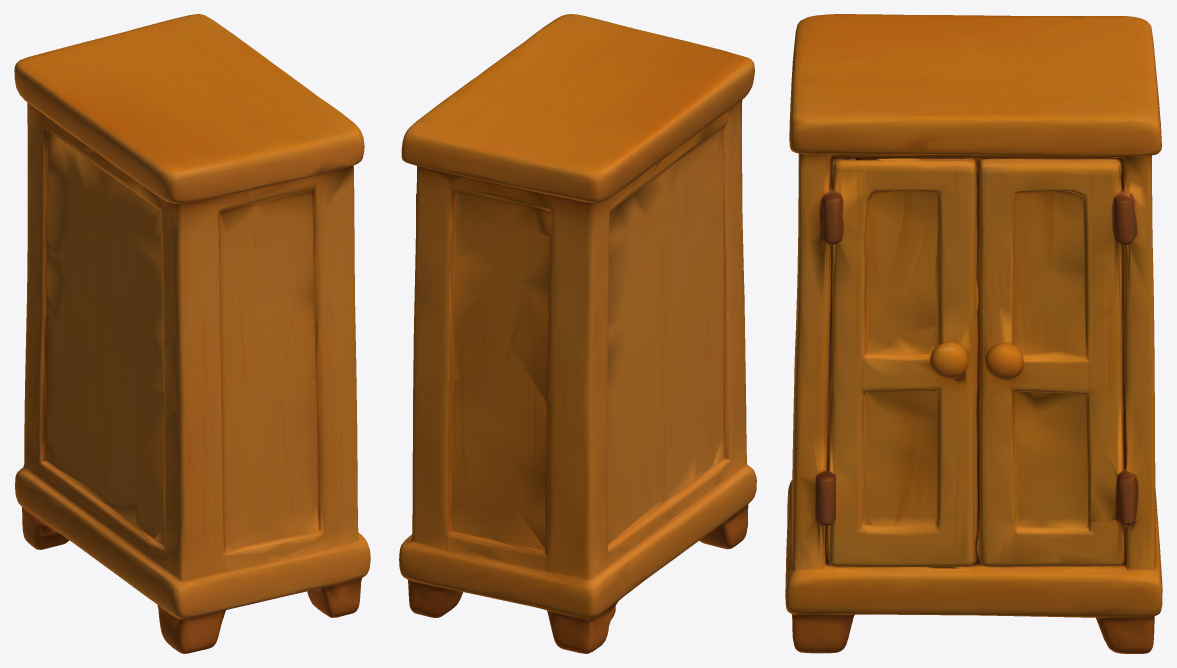
Rendered from wardrobe.glb.
3 renders of one model, left to right at view 1: azimuth 30°, elevation 25°; view 2: azimuth 150°, elevation 25°; view 3: azimuth 270°, elevation 25°, orthographic. The views are drawn at different scales.
Visible parts, largest first — view 1: tripo_node_fca83275-5ab2-4405-8853-43a8691523d3; view 2: tripo_node_fca83275-5ab2-4405-8853-43a8691523d3; view 3: tripo_node_fca83275-5ab2-4405-8853-43a8691523d3.
Boxes of the visible parts, x1,y1,x2,y2 form: tripo_node_fca83275-5ab2-4405-8853-43a8691523d3: (14,14,370,653); tripo_node_fca83275-5ab2-4405-8853-43a8691523d3: (399,14,756,653); tripo_node_fca83275-5ab2-4405-8853-43a8691523d3: (785,14,1162,653).
Bounding box in the file's own units: 0.4479 × 0.9996 × 0.6294.
Materials: 1 (1 with a texture image).
